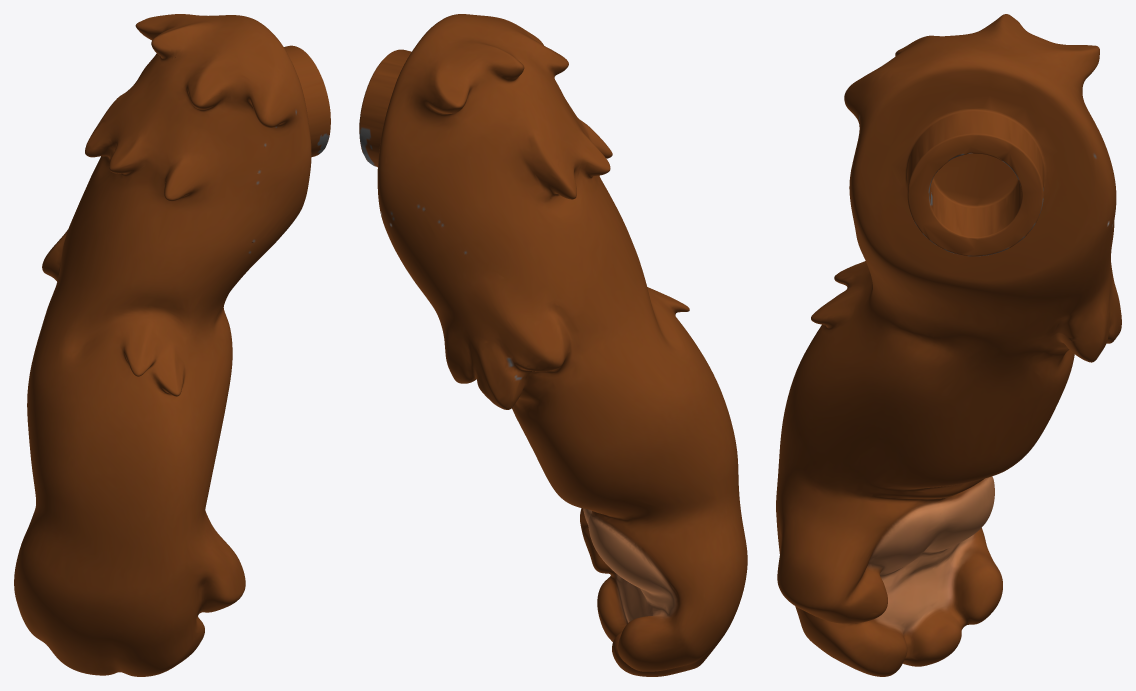
File: Bras_Lion_rg.glb
The picture shows the model from 3 angles, left to right: view 1: azimuth 30°, elevation 25°; view 2: azimuth 150°, elevation 25°; view 3: azimuth 270°, elevation 25°; orthographic projection. The views are drawn at different scales.
Visible parts, largest first — view 1: Bras_Lion_rg; view 2: Bras_Lion_rg; view 3: Bras_Lion_rg.
Boxes of the visible parts, left/top/right/bottom form: Bras_Lion_rg: left=14, top=14, right=330, bottom=676; Bras_Lion_rg: left=359, top=14, right=747, bottom=676; Bras_Lion_rg: left=776, top=14, right=1121, bottom=676.
Size of the model in its own units: 2.65 by 4.89 by 2.17.
